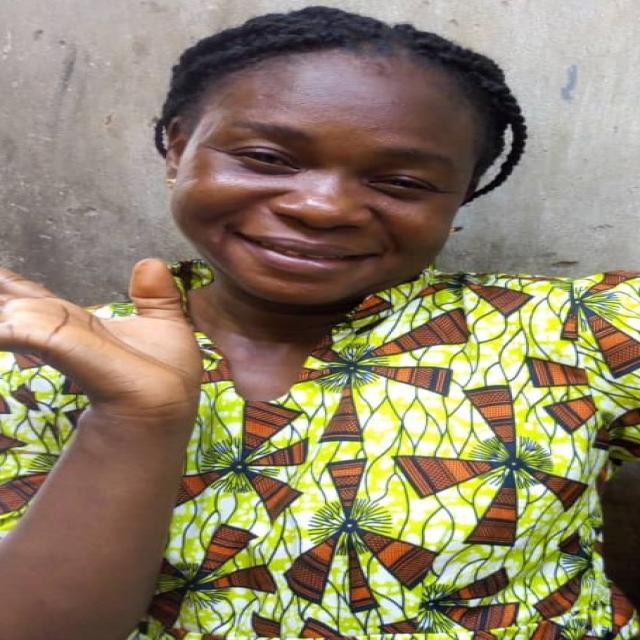happy: (146, 22, 484, 309)
